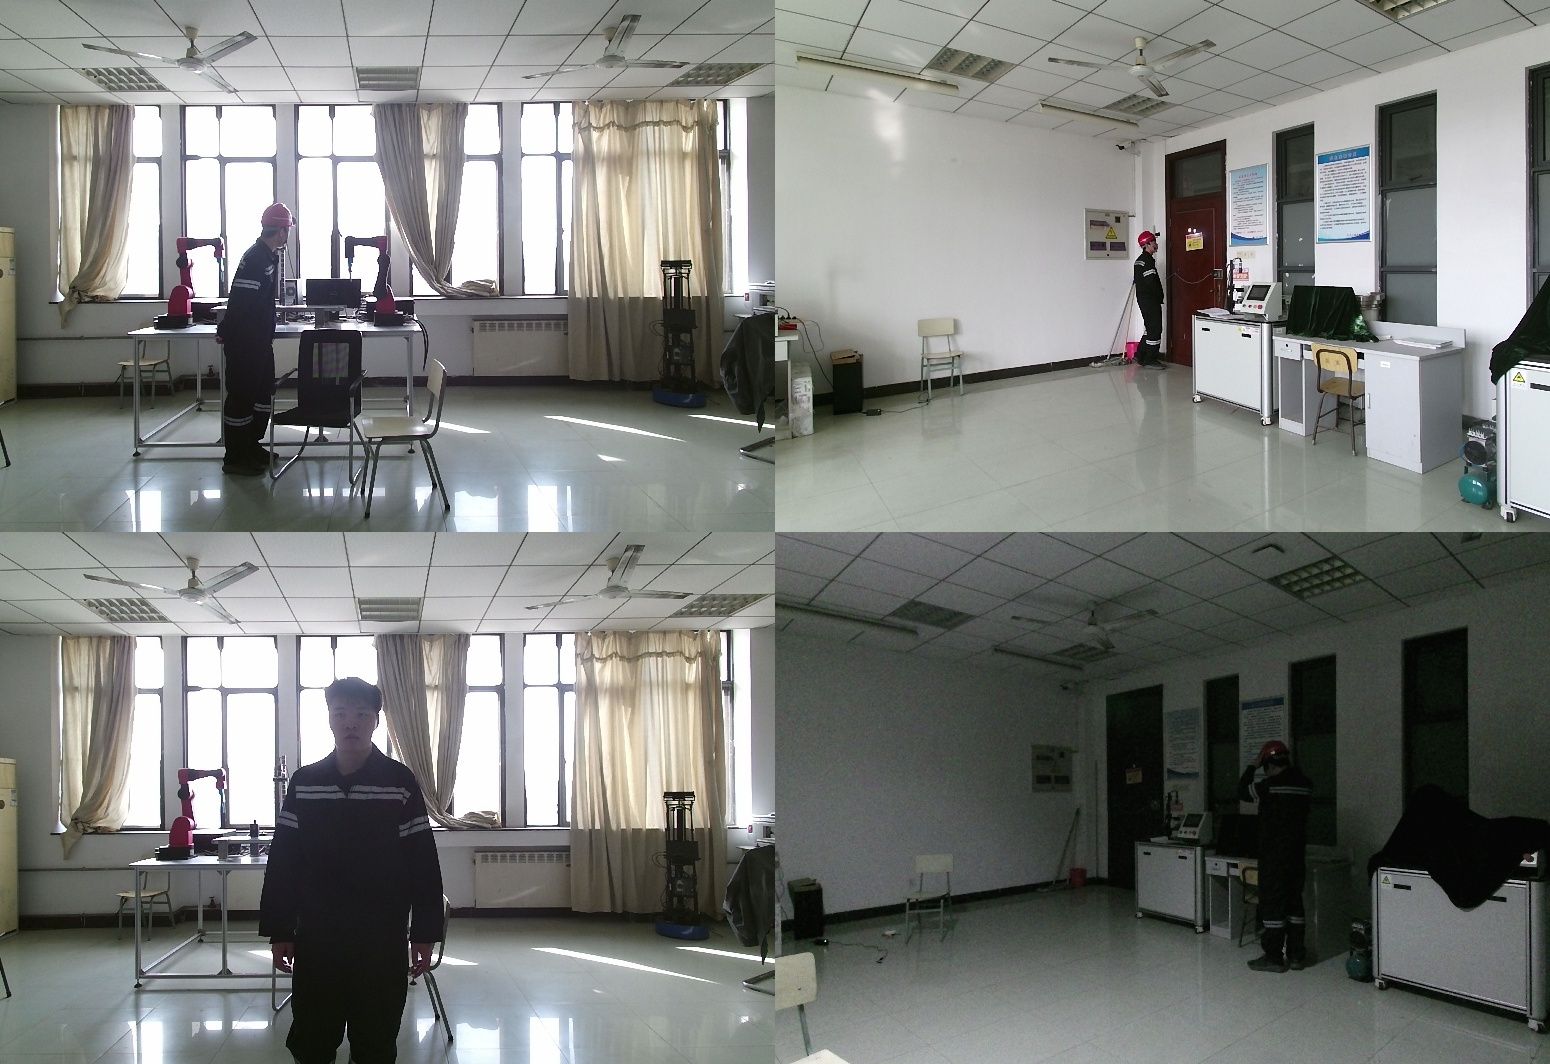person: (268, 678, 458, 1064), (1235, 742, 1334, 972), (220, 204, 293, 478), (1130, 229, 1165, 372)
